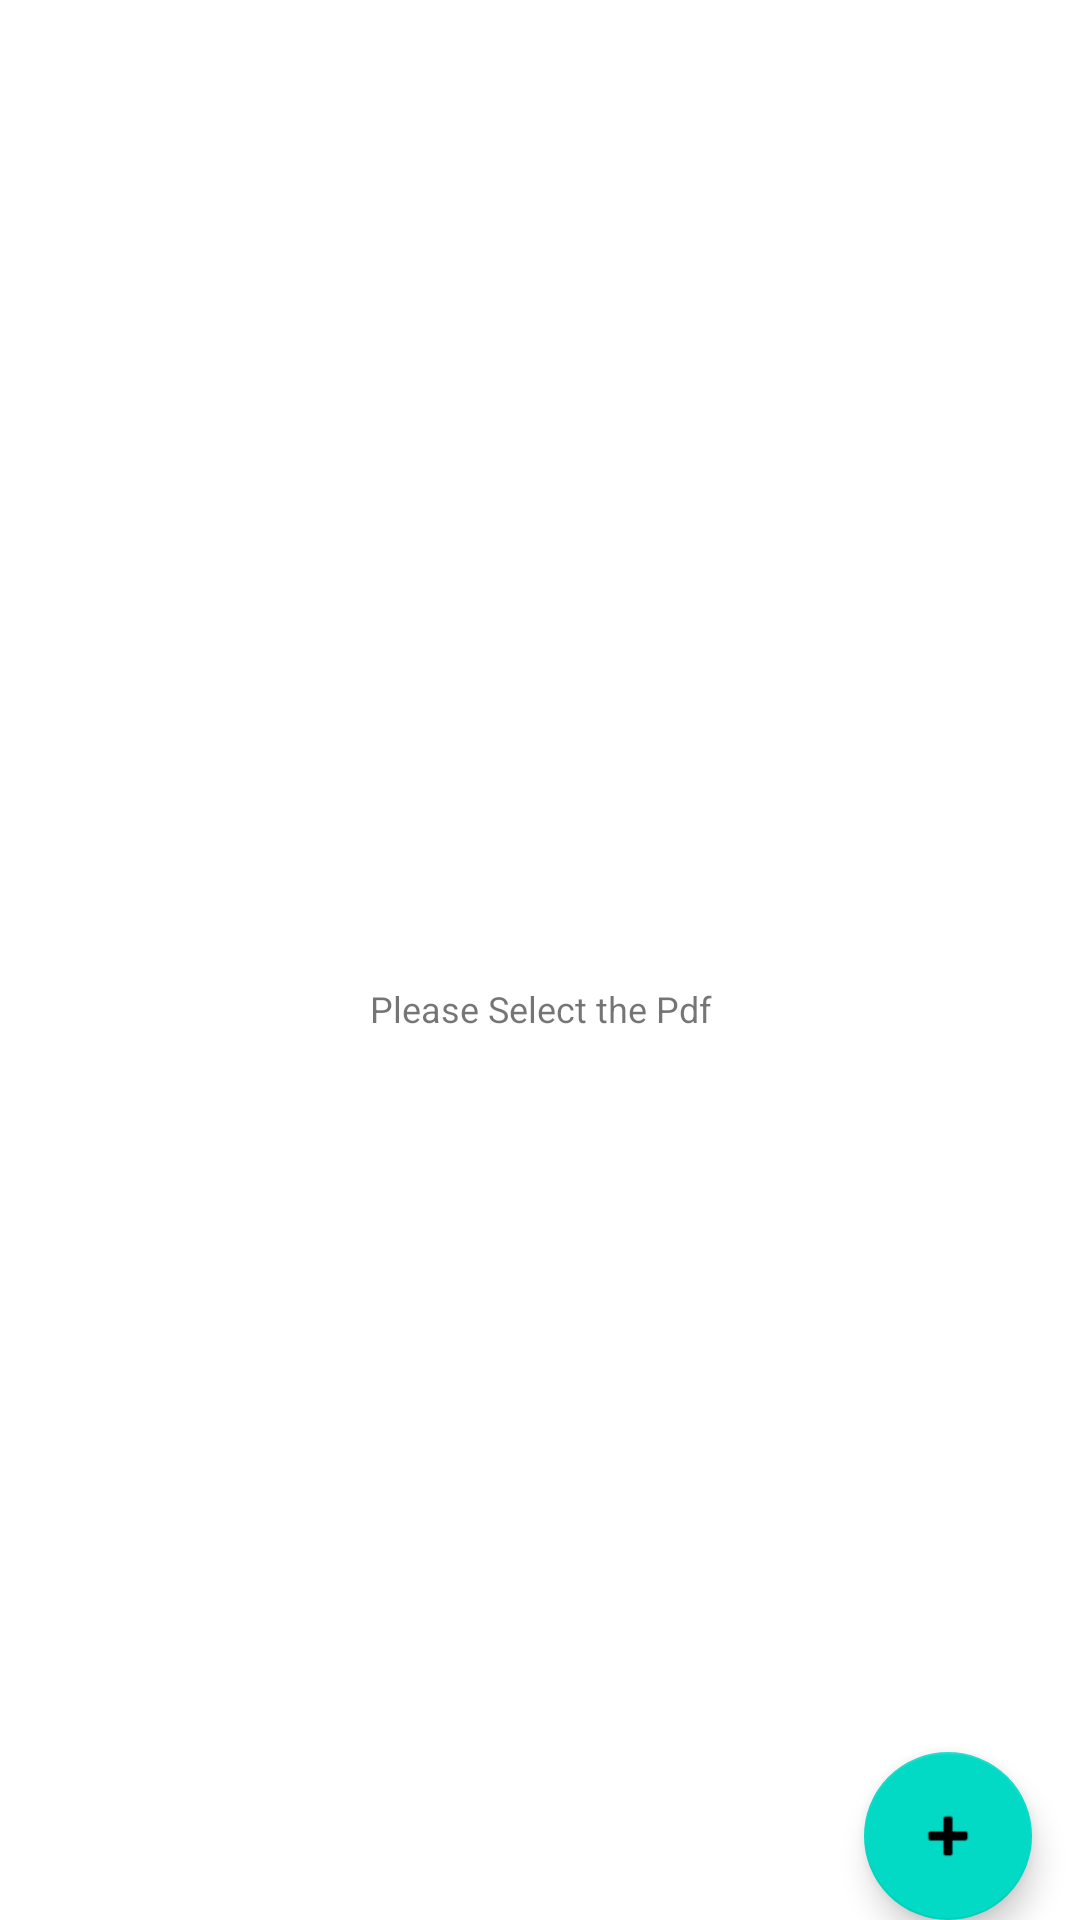

Where to tap for icons on this 1080px x 1920px app screen, as point (x, y):
add: point (948, 1836)
